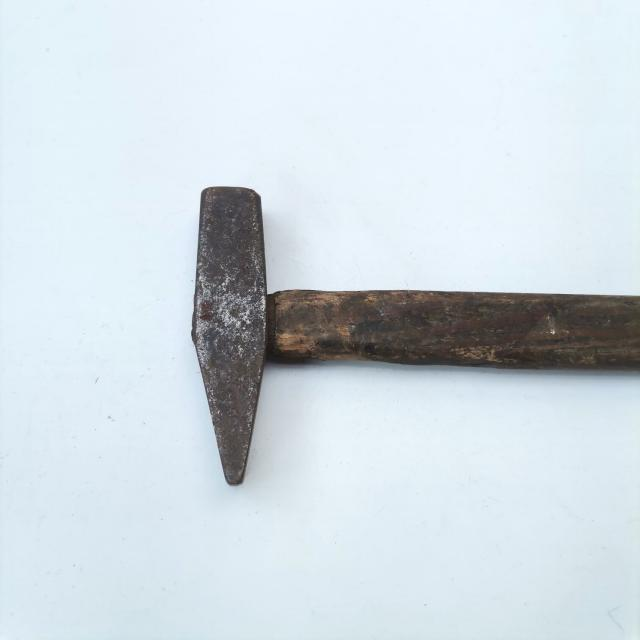hammer: (171, 169, 640, 496)
